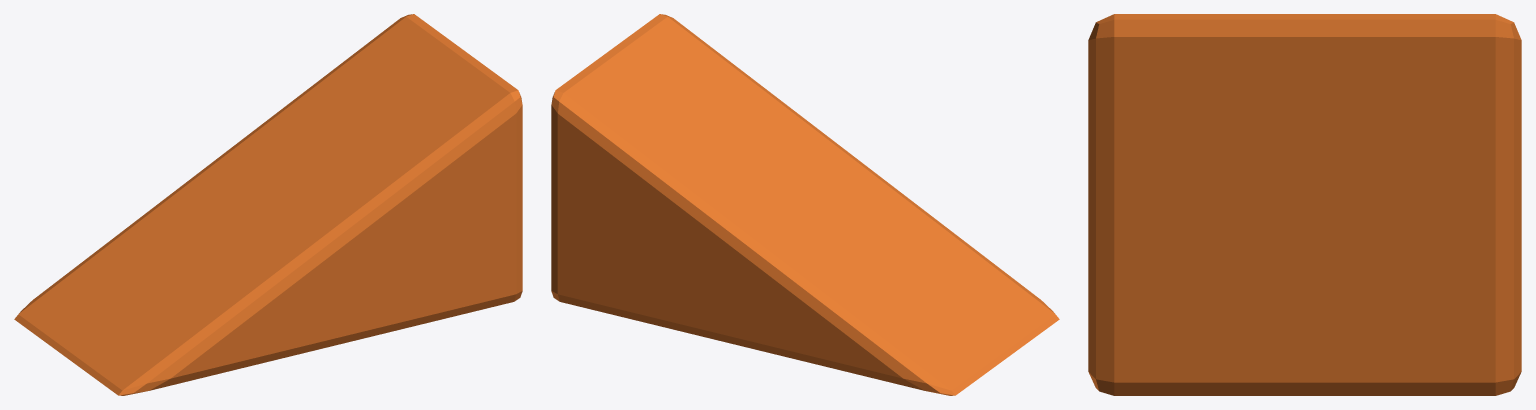
The model's file is block_triangle.fbx.
3 renders of one model, left to right at view 1: azimuth 30°, elevation 25°; view 2: azimuth 150°, elevation 25°; view 3: azimuth 270°, elevation 25°, orthographic. The views are drawn at different scales.
Parts seen in each view (by area): view 1: Triangle; view 2: Triangle; view 3: Triangle.
Part boxes in pixels (x1,y1,x2,y2): Triangle: (14, 14, 522, 395); Triangle: (551, 14, 1059, 395); Triangle: (1088, 14, 1521, 395).
Size of the model in its own units: 98.34 by 48.83 by 50.
